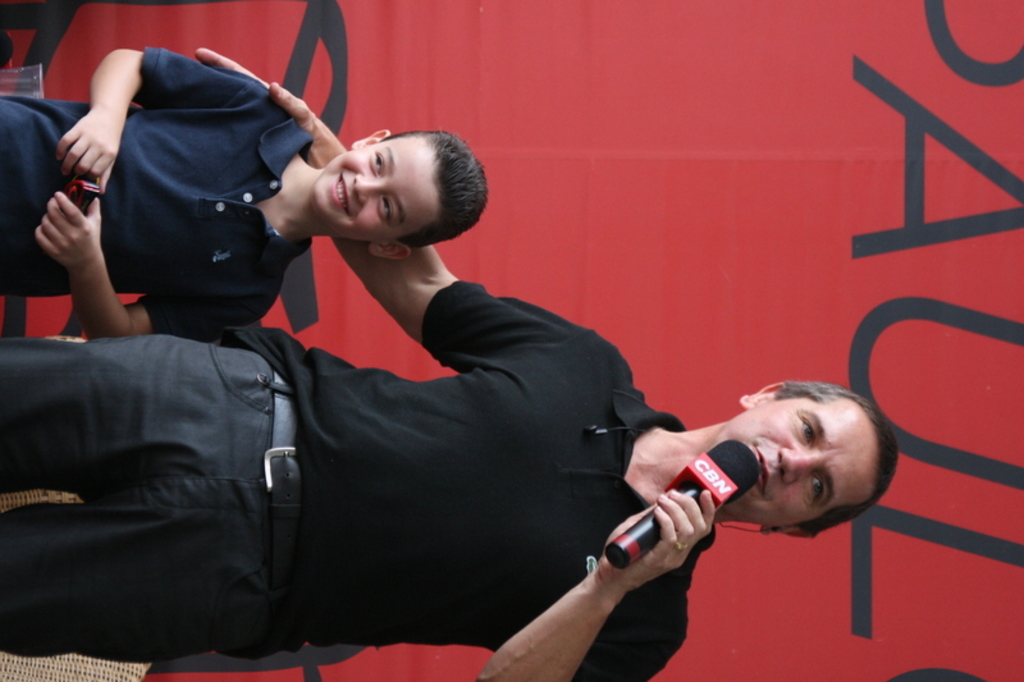Human_hand: (596, 488, 718, 599), (193, 45, 321, 141), (27, 170, 96, 276), (52, 107, 127, 197)
